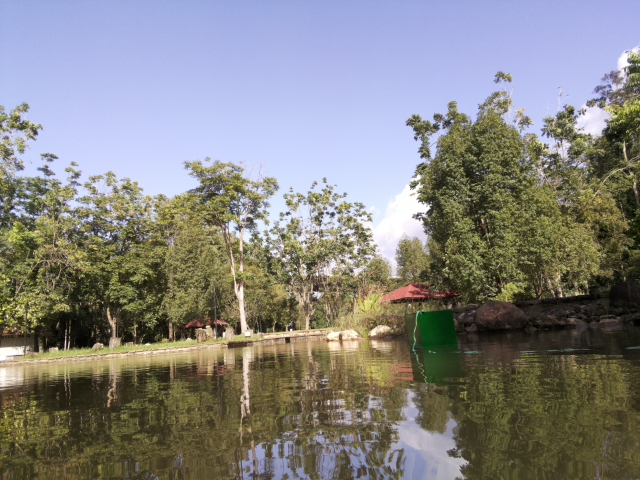obstacle: (402, 309, 459, 350)
